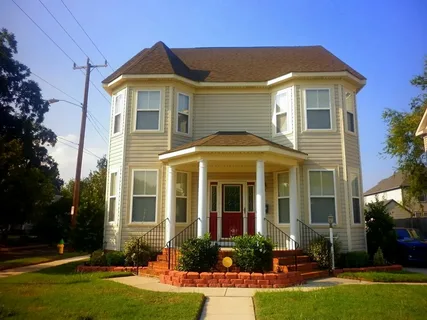private_hause: (96, 39, 373, 269)
